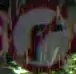Don't turn right: (10, 4, 70, 68)
